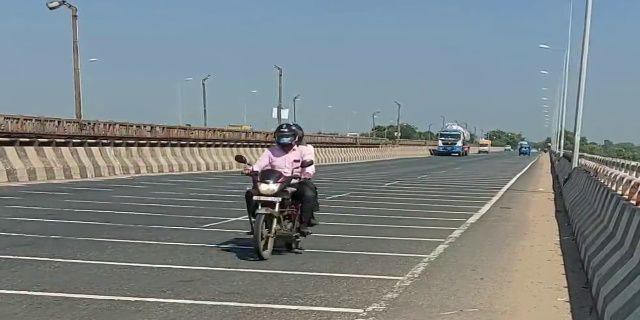Motorbike: (232, 120, 325, 264)
Truck: (434, 122, 471, 161)
